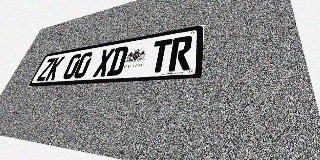0: (72, 51, 94, 79), (61, 53, 83, 79)
D: (106, 46, 129, 76)
K: (45, 56, 65, 81)
R: (168, 35, 193, 72)
T: (148, 38, 173, 73)
X: (92, 48, 115, 77)
Z: (36, 58, 56, 81)
